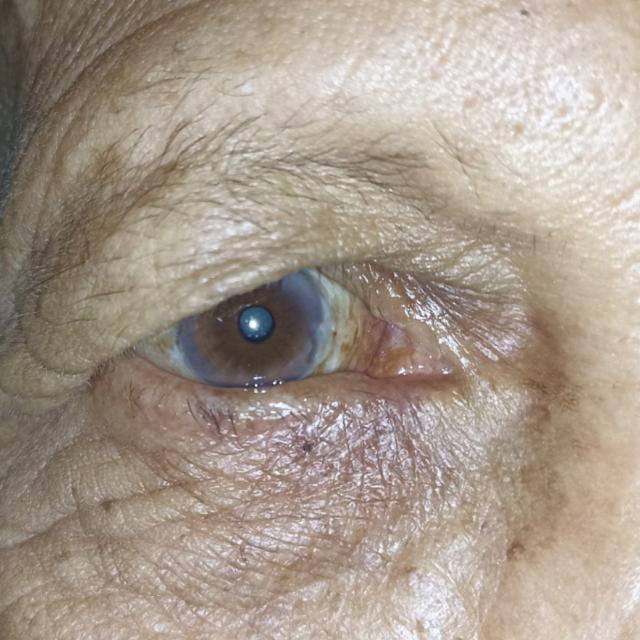Cataract: (173, 241, 335, 397)
